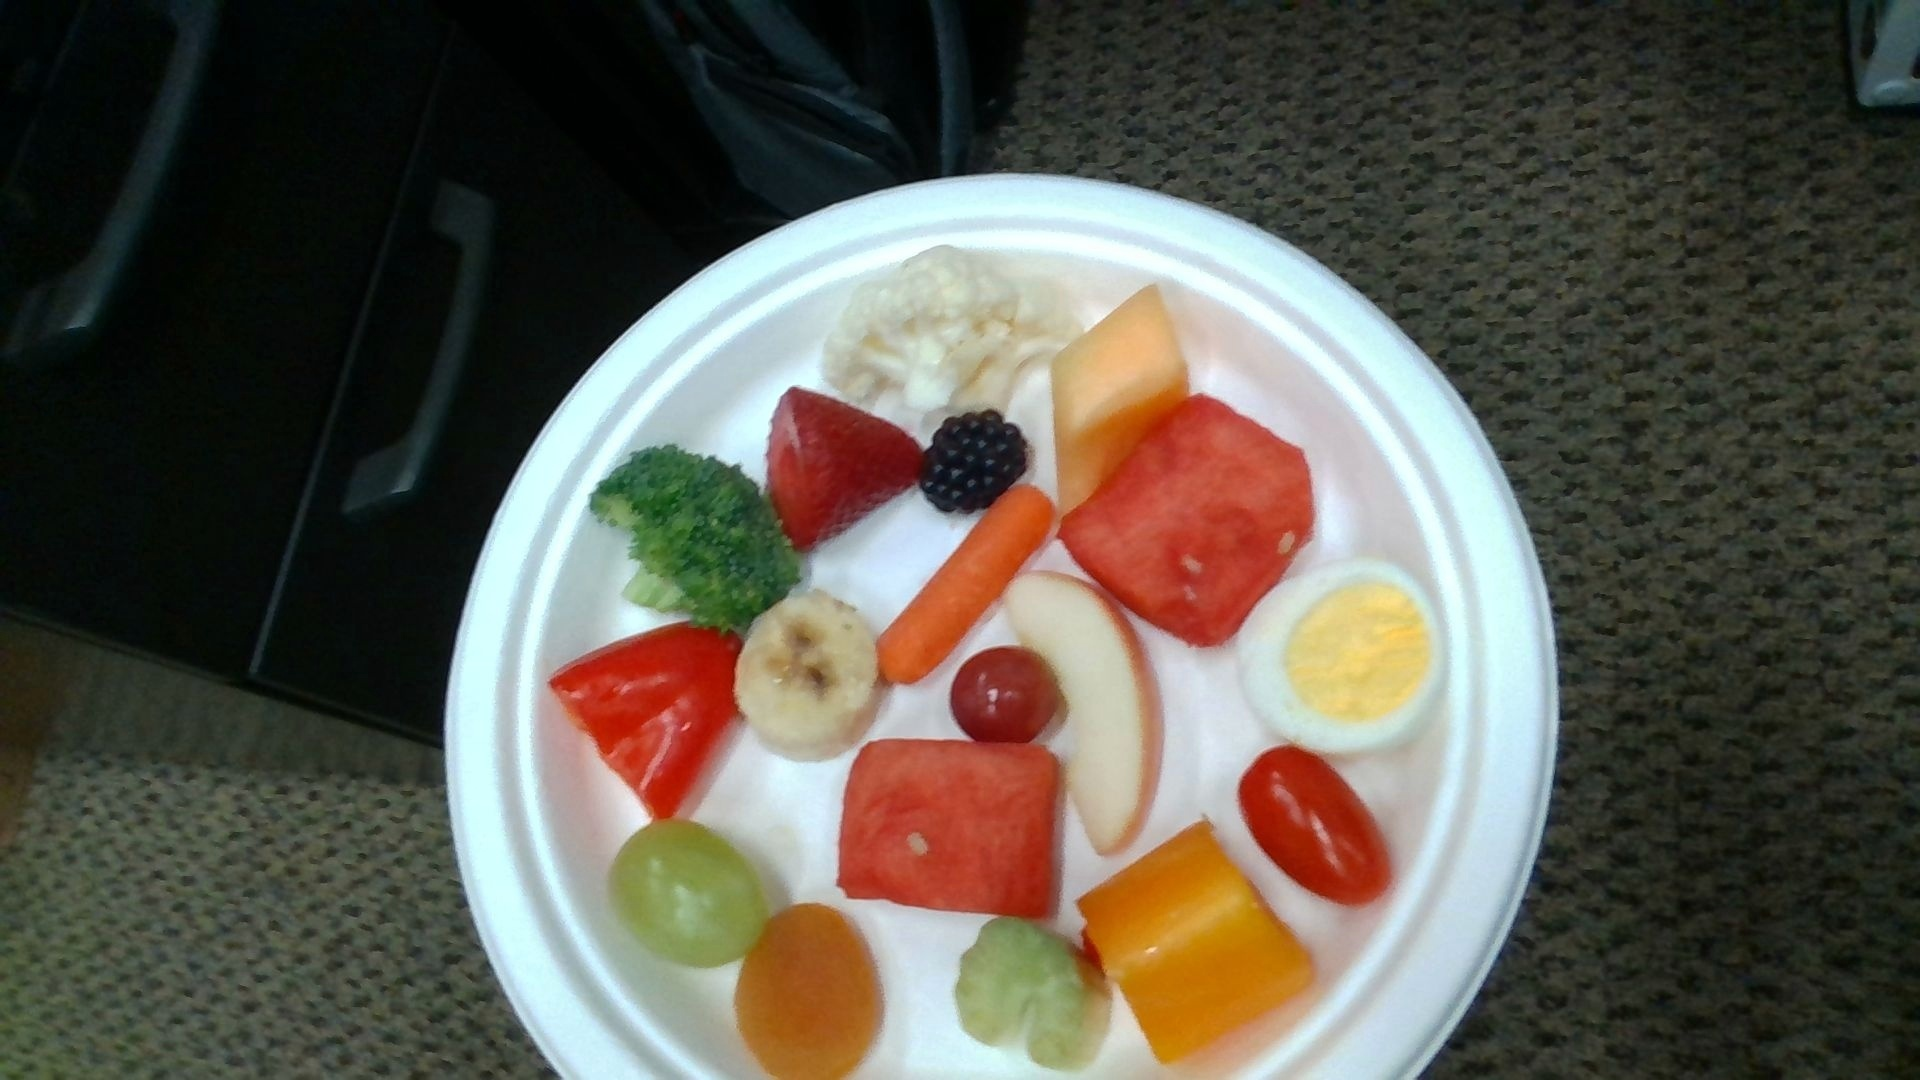apple: (1002, 570, 1164, 851)
apricot: (735, 906, 882, 1080)
banana: (737, 589, 876, 761)
bell_pepper: (1079, 820, 1309, 1060), (550, 622, 742, 816)
blackberry: (924, 411, 1027, 510)
broccoli: (592, 450, 796, 630)
cantalope: (1052, 286, 1189, 516)
carrot: (877, 488, 1050, 680)
cauliflower: (824, 247, 1079, 407)
celery: (955, 920, 1106, 1065)
cherry_tomato: (1240, 750, 1394, 906)
egg: (1240, 560, 1444, 756)
grape_green: (611, 820, 760, 965)
grape_purple: (949, 647, 1058, 742)
melon: (1059, 396, 1317, 645), (839, 740, 1059, 918)
strawberry: (767, 388, 924, 551)
